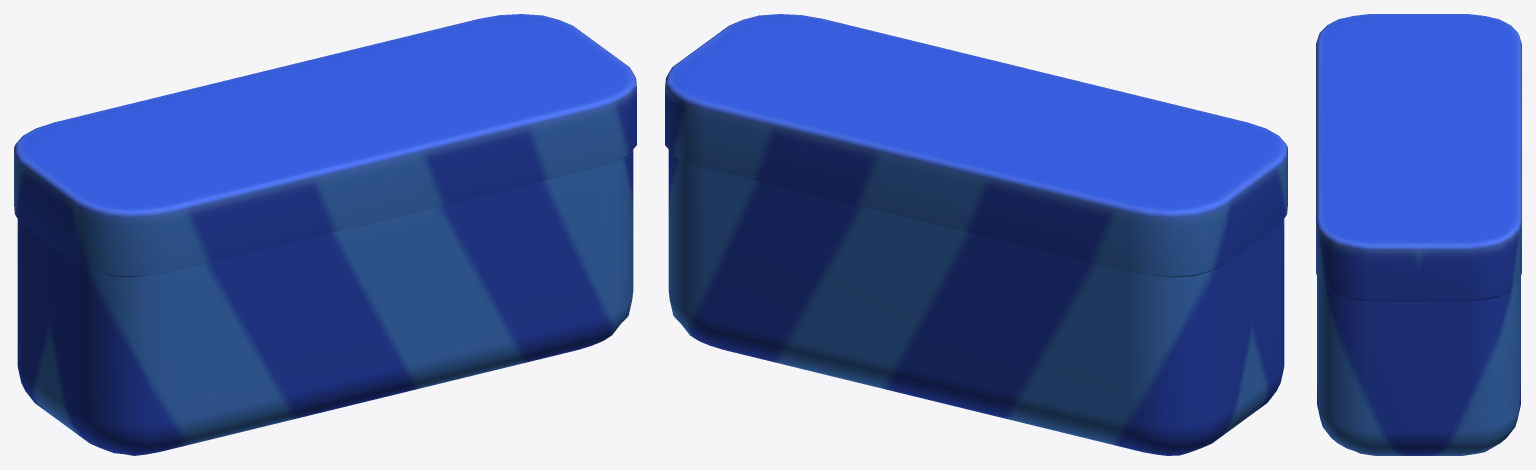
File: Block_1x3.fbx
3 views of the same model, side by side, from view 1: azimuth 30°, elevation 25°; view 2: azimuth 150°, elevation 25°; view 3: azimuth 270°, elevation 25° (orthographic). The views are drawn at different scales.
Parts seen in each view (by area): view 1: Block_1x3, Block_1x3_Lid; view 2: Block_1x3, Block_1x3_Lid; view 3: Block_1x3_Lid, Block_1x3.
Part boxes in pixels (x1=…): Block_1x3: x1=17, y1=149, x2=633, y2=455; Block_1x3_Lid: x1=14, y1=14, x2=636, y2=277; Block_1x3: x1=668, y1=149, x2=1284, y2=455; Block_1x3_Lid: x1=665, y1=14, x2=1287, y2=277; Block_1x3_Lid: x1=1316, y1=14, x2=1521, y2=301; Block_1x3: x1=1317, y1=277, x2=1520, y2=455.
Bounding box in the file's own units: 159 × 71.33 × 59.28.
